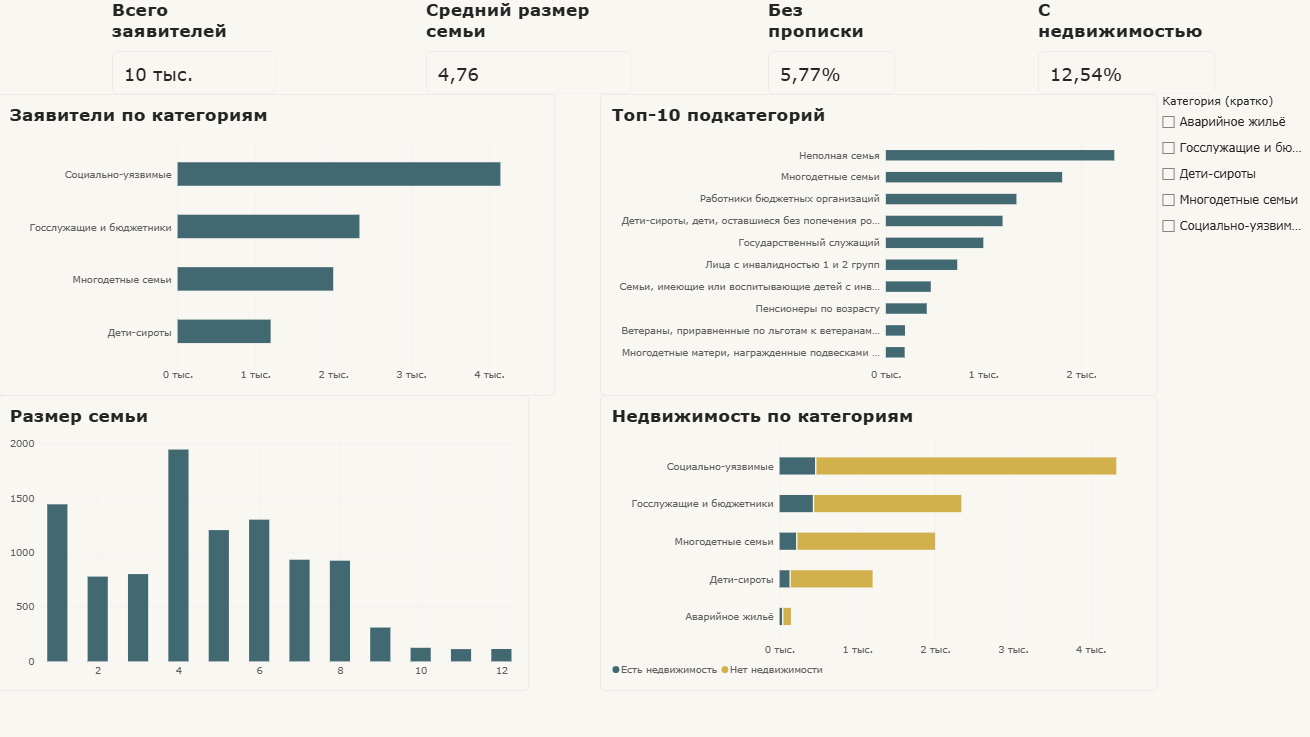

Layout of this report page (visuals, bound fields, positions):
{"tool":"powerbi","page":{"name":"Очередь","canvas":[1920,1080],"ordinal":4},"visuals":[{"type":"cardVisual","title":"Всего заявителей","fields":{"Data":["kezekte_synthetic.Всего заявителей"]},"box":[166.7,0,240,138.3],"z":0},{"type":"cardVisual","title":"Средний размер семьи","fields":{"Data":["kezekte_synthetic.Средний размер семьи"]},"box":[625,0,300,138.3],"z":1000},{"type":"cardVisual","title":"Без прописки","fields":{"Data":["kezekte_synthetic.Без прописки %"]},"box":[1123.3,0,185,138.3],"z":2000},{"type":"cardVisual","title":"С недвижимостью","fields":{"Data":["kezekte_synthetic.С недвижимостью %"]},"box":[1517.3,0,258.2,138.6],"z":3000},{"type":"clusteredBarChart","title":"Топ-10 подкатегорий","fields":{"Category":["kezekte_synthetic.FLSUBCATEGORY"],"Y":["kezekte_synthetic.Всего заявителей"]},"box":[878.3,138.3,813.3,440],"z":4000},{"type":"clusteredColumnChart","title":"Размер семьи","fields":{"Category":["kezekte_synthetic.CNT_MEM"],"Y":["kezekte_synthetic.Всего заявителей"]},"box":[0,578.3,775,431.7],"z":5000},{"type":"clusteredBarChart","title":"Заявители по категориям","fields":{"Category":["kezekte_synthetic.Категория (кратко)"],"Y":["kezekte_synthetic.Всего заявителей"]},"box":[0,138.3,813.3,440],"z":6000},{"type":"barChart","title":"Недвижимость по категориям","fields":{"Category":["kezekte_synthetic.Категория (кратко)"],"Series":["kezekte_synthetic.REAL_ESTATE_STATUS"],"Y":["kezekte_synthetic.Всего заявителей"]},"box":[878,578,813,432],"z":7000},{"type":"slicer","fields":{"Values":["kezekte_synthetic.Категория (кратко)"]},"box":[1691.7,138.3,219,440],"z":8000}]}

Visuals, with their boxes in screenshot pixels (x1, y1, x2, y2), scaled from the page's 1920x1080 canvas onto the 1310x737 screenshot:
"Всего заявителей" cardVisual: {"left": 114, "top": 0, "right": 277, "bottom": 94}
"Средний размер семьи" cardVisual: {"left": 426, "top": 0, "right": 631, "bottom": 94}
"Без прописки" cardVisual: {"left": 766, "top": 0, "right": 893, "bottom": 94}
"С недвижимостью" cardVisual: {"left": 1035, "top": 0, "right": 1211, "bottom": 95}
"Топ-10 подкатегорий" clusteredBarChart: {"left": 599, "top": 94, "right": 1154, "bottom": 395}
"Размер семьи" clusteredColumnChart: {"left": 0, "top": 395, "right": 529, "bottom": 689}
"Заявители по категориям" clusteredBarChart: {"left": 0, "top": 94, "right": 555, "bottom": 395}
"Недвижимость по категориям" barChart: {"left": 599, "top": 394, "right": 1154, "bottom": 689}
slicer - kezekte_synthetic.Категория (кратко): {"left": 1154, "top": 94, "right": 1304, "bottom": 395}
